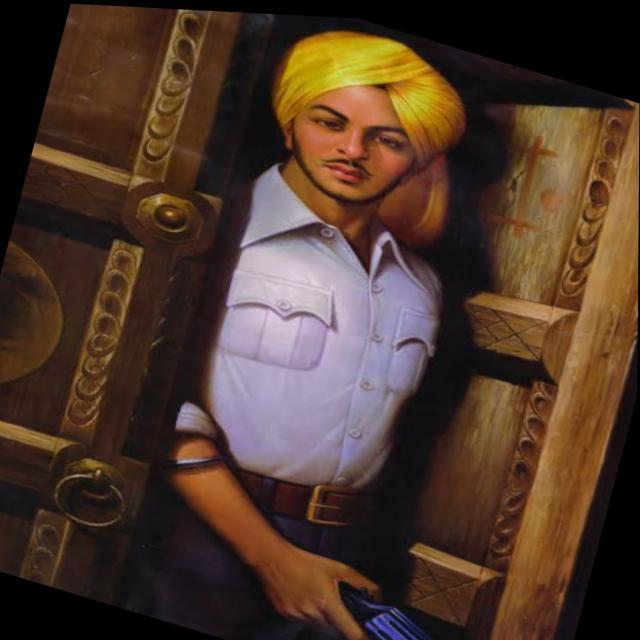weapon: (255, 545, 537, 640)
